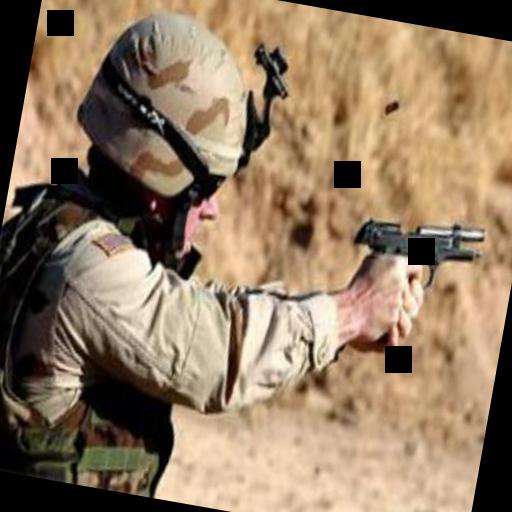Handgun: (336, 200, 487, 300)
